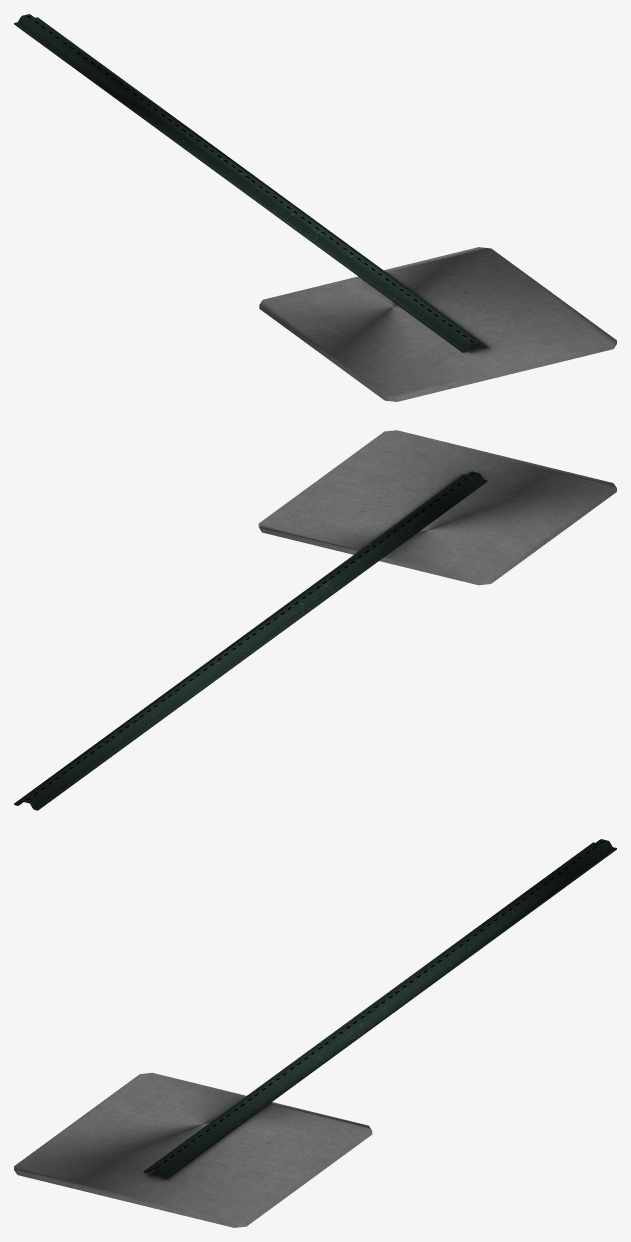
File: signinfolargesquare.fbx
3 views of the same model, one above another, from view 1: azimuth 30°, elevation 25°; view 2: azimuth 150°, elevation 25°; view 3: azimuth 330°, elevation 25° (orthographic).
Visible parts, largest first — view 1: signinfolargesquare; view 2: signinfolargesquare; view 3: signinfolargesquare.
Part boxes in pixels (box(x1,y1,x2,y2)): signinfolargesquare: box(14, 14, 616, 401); signinfolargesquare: box(14, 430, 616, 810); signinfolargesquare: box(14, 839, 616, 1227).
Bounding box in the file's own units: 0.732 × 0.031 × 2.62.
